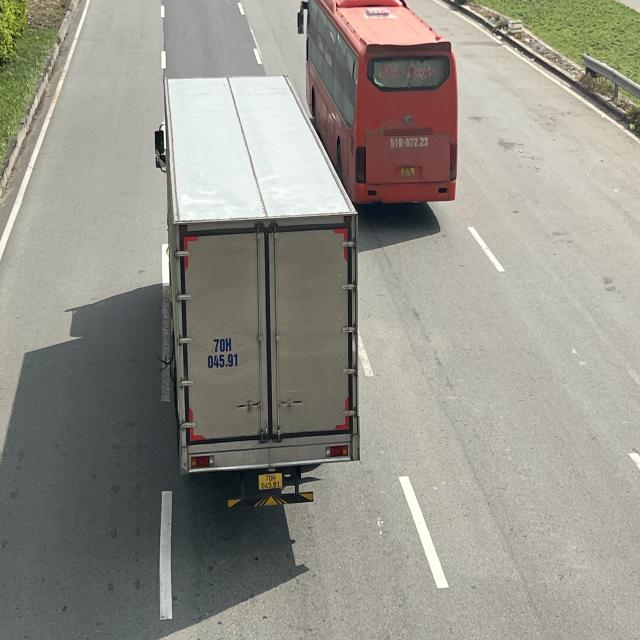coach: (297, 2, 464, 212)
truck: (160, 78, 363, 500)
